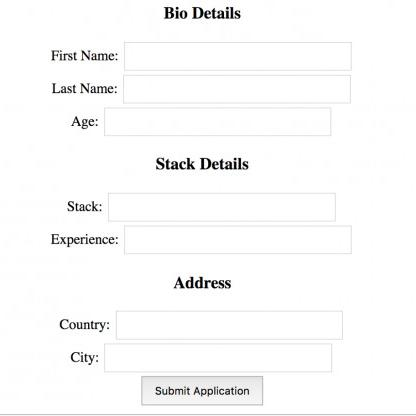button: (139, 373, 265, 408)
field: (101, 341, 333, 375), (102, 105, 332, 139), (120, 224, 354, 257), (119, 73, 352, 106), (111, 309, 346, 341), (104, 192, 337, 224), (120, 41, 352, 71)
field_with_label: (51, 71, 354, 107), (52, 223, 355, 259), (59, 307, 349, 342), (51, 40, 354, 73), (66, 190, 339, 225), (74, 105, 334, 141), (72, 341, 334, 376)
